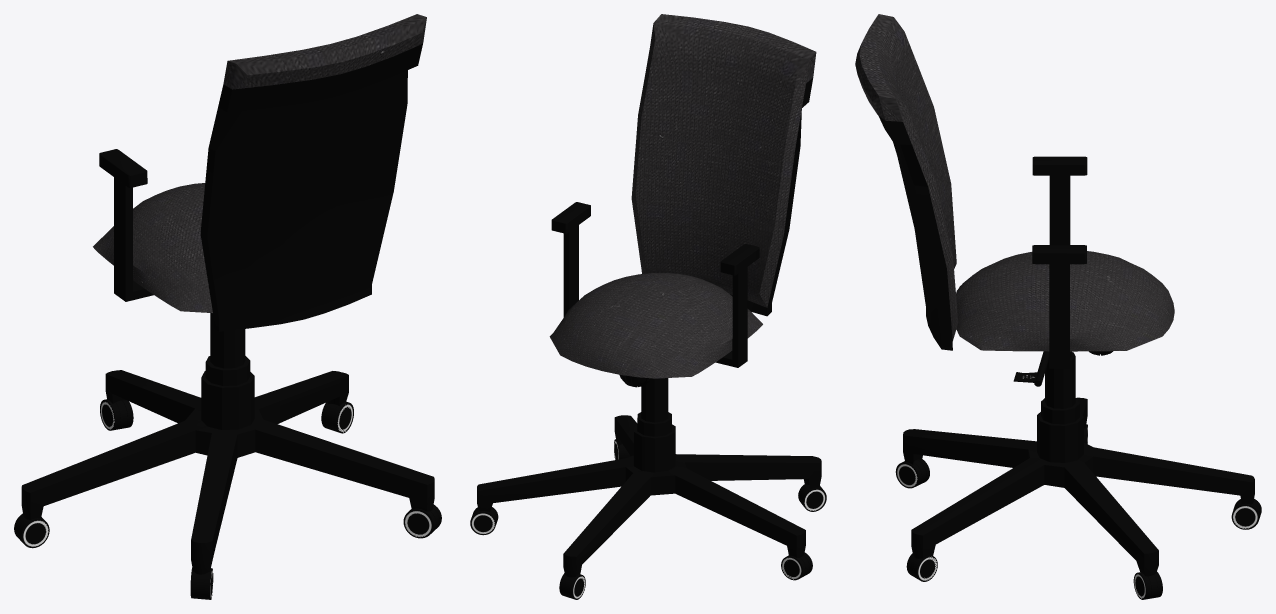
Rendered from silla.fbx.
3 renders of one model, left to right at view 1: azimuth 30°, elevation 25°; view 2: azimuth 150°, elevation 25°; view 3: azimuth 270°, elevation 25°, orthographic. The views are drawn at different scales.
Parts seen in each view (by area): view 1: Cylinder.003; view 2: Cylinder.003; view 3: Cylinder.003.
Boxes of the visible parts, x1=… form: Cylinder.003: x1=14, y1=14, x2=441, y2=599; Cylinder.003: x1=470, y1=14, x2=826, y2=599; Cylinder.003: x1=855, y1=14, x2=1261, y2=599.
Bounding box in the file's own units: 61.81 × 85.57 × 66.03.
